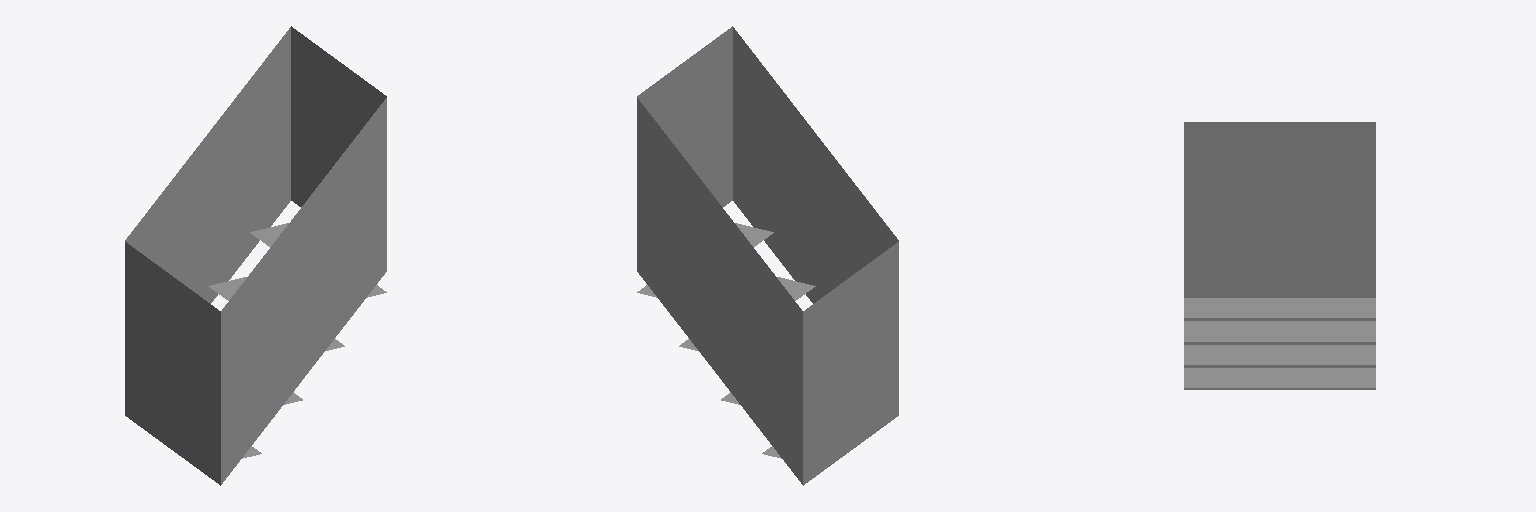
The model's file is stairinv.obj.
3 views of the same model, side by side, from view 1: azimuth 30°, elevation 25°; view 2: azimuth 150°, elevation 25°; view 3: azimuth 270°, elevation 25° (orthographic).
Visible parts, largest first — view 1: Cube.001_Cube.002, Cube; view 2: Cube.001_Cube.002, Cube; view 3: Cube.001_Cube.002, Cube.
Boxes of the visible parts, x1,y1,x2,y2 form: Cube.001_Cube.002: [125, 27, 386, 485]; Cube: [125, 26, 386, 483]; Cube.001_Cube.002: [637, 26, 898, 485]; Cube: [637, 28, 898, 483]; Cube.001_Cube.002: [1184, 122, 1375, 389]; Cube: [1184, 122, 1375, 389].
Bounding box in the file's own units: 0.75 × 1.5 × 0.75.